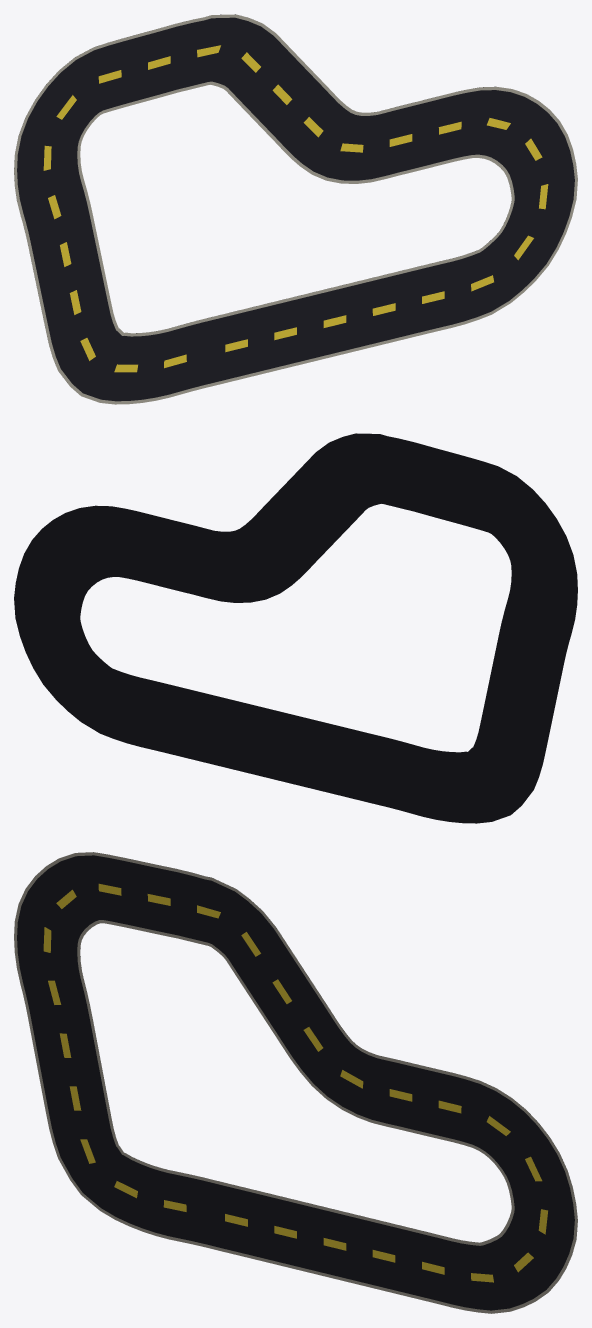
Rendered from track.obj.
3 renders of one model, top to bottom at view 1: azimuth 30°, elevation 25°; view 2: azimuth 150°, elevation 25°; view 3: azimuth 330°, elevation 25°, orthographic.
Size of the model in its own units: 7.45 by 4.7 by 0.002.
